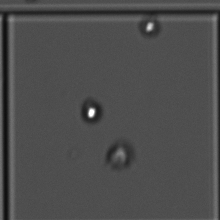Dead Cell: (100, 140, 136, 173)
Living Cell: (76, 97, 105, 124), (136, 13, 161, 37)
